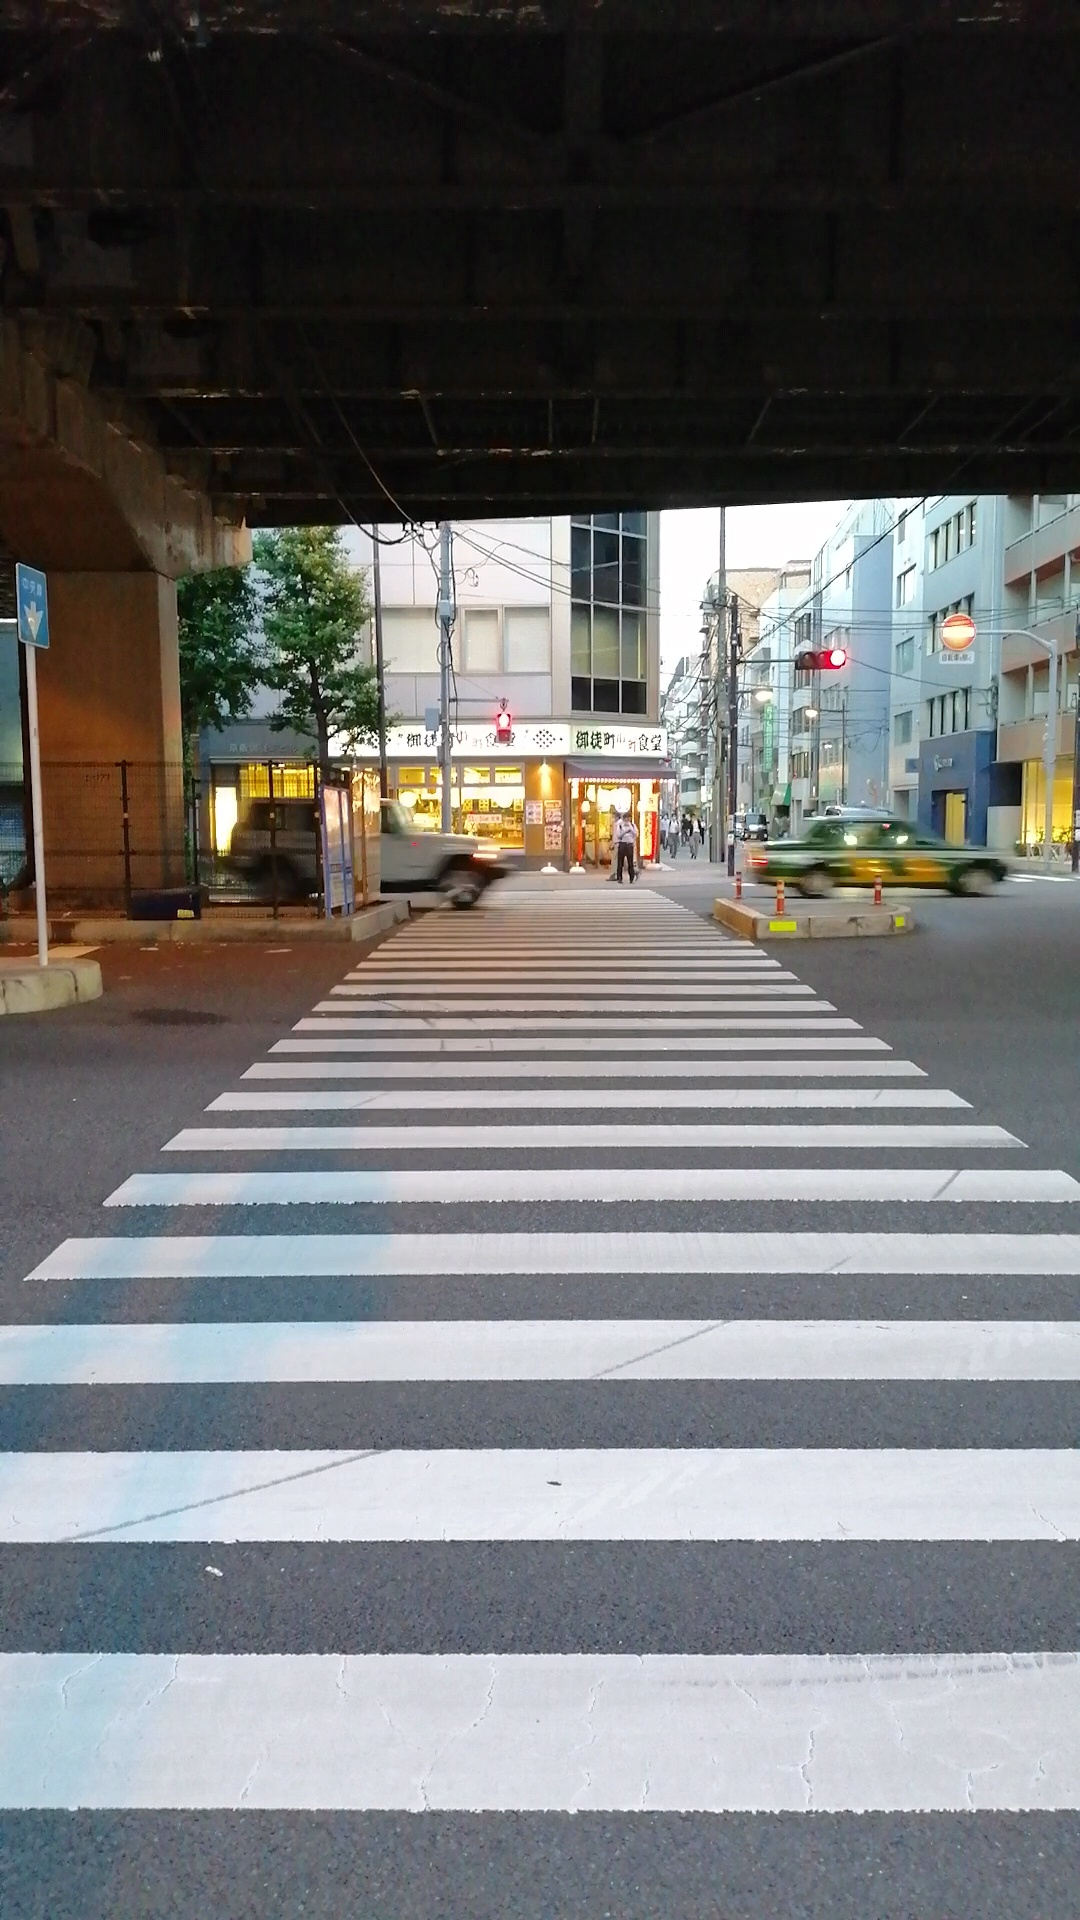red: (493, 709, 514, 746)
